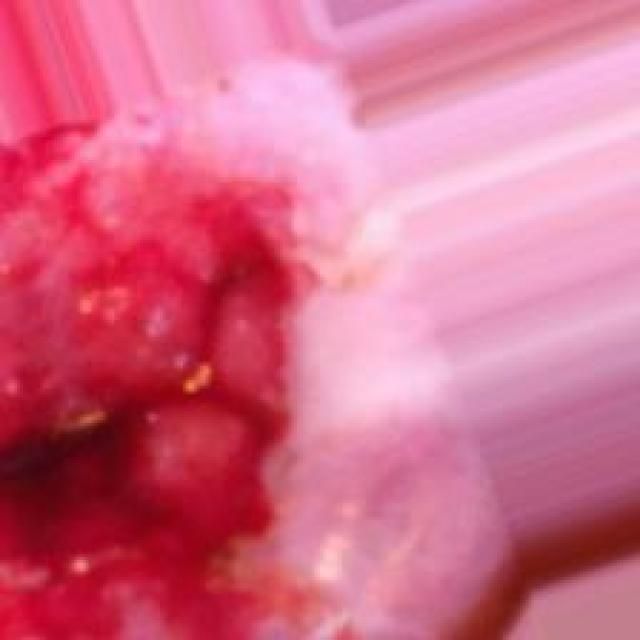type-1: (0, 70, 446, 640)
